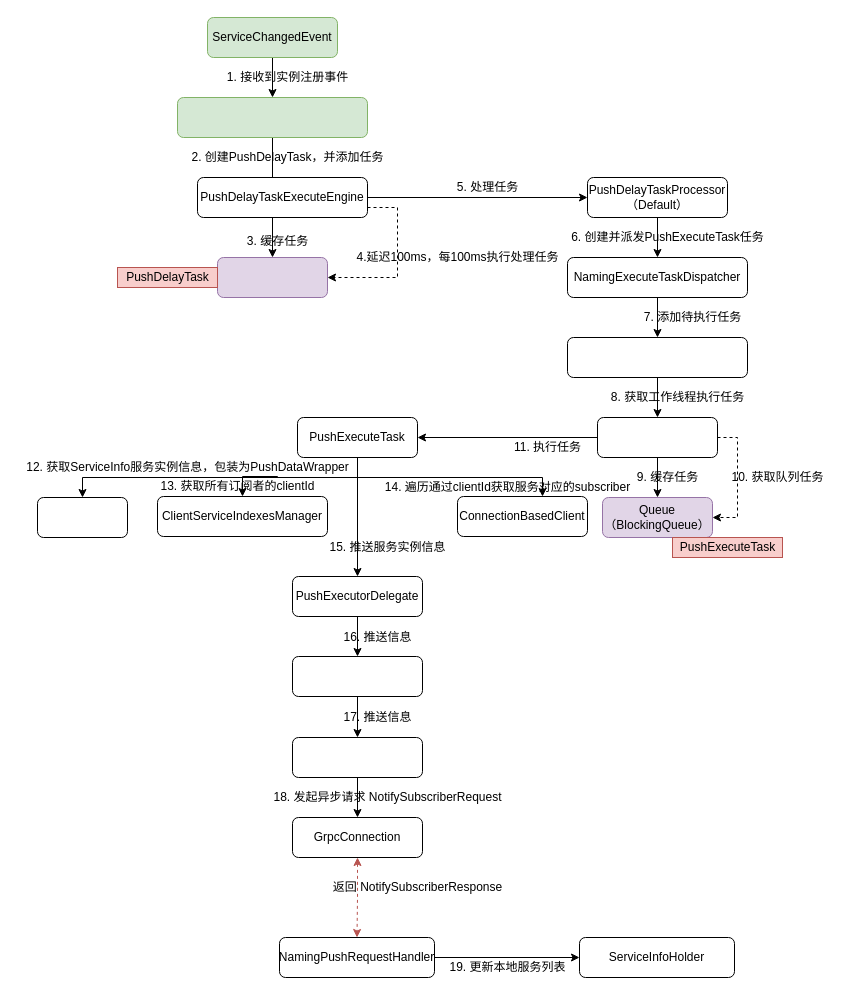
The diagram is 849 pixels wide and 995 high, and some of its shapes have lost their labels. Here are the shapes that lost their labels. From the top down, the centre of each, then its label:
(272,117): NamingSubscriberServiceV2Impl （subscriber）
(272,277): Tasks （ConcurrentHashMap）
(657,357): NacosExecuteTaskExecuteEngine
(657,437): TaskExecuteWorker
(82,517): ServiceStorage
(357,676): PushExecutorRpcImpl
(357,757): RpcPushService
